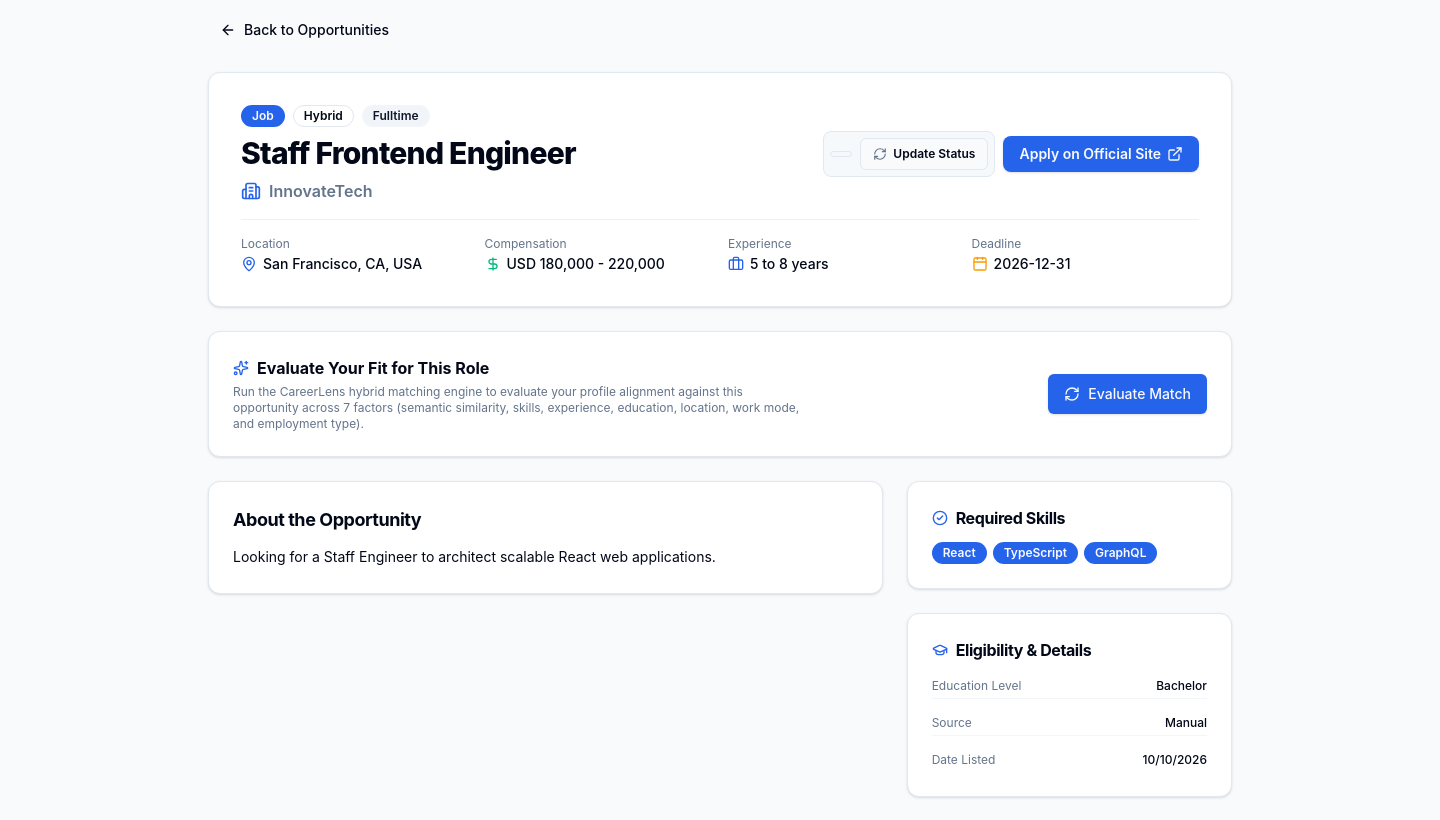
Test: Phase 20 — OpportunityDetailPage Match Integration › shows Evaluate Match button when authenticated and match is not yet computed
Expected: the heading "Staff Frontend Engineer" is shown, [241,135,576,171]
Expected: the heading "Evaluate Your Fit for This Role" is shown, [257,356,489,380]
Note: Trigger evaluation on explicit click
Click the button "Evaluate Match" at (1128, 394), box [1048,374,1207,414]
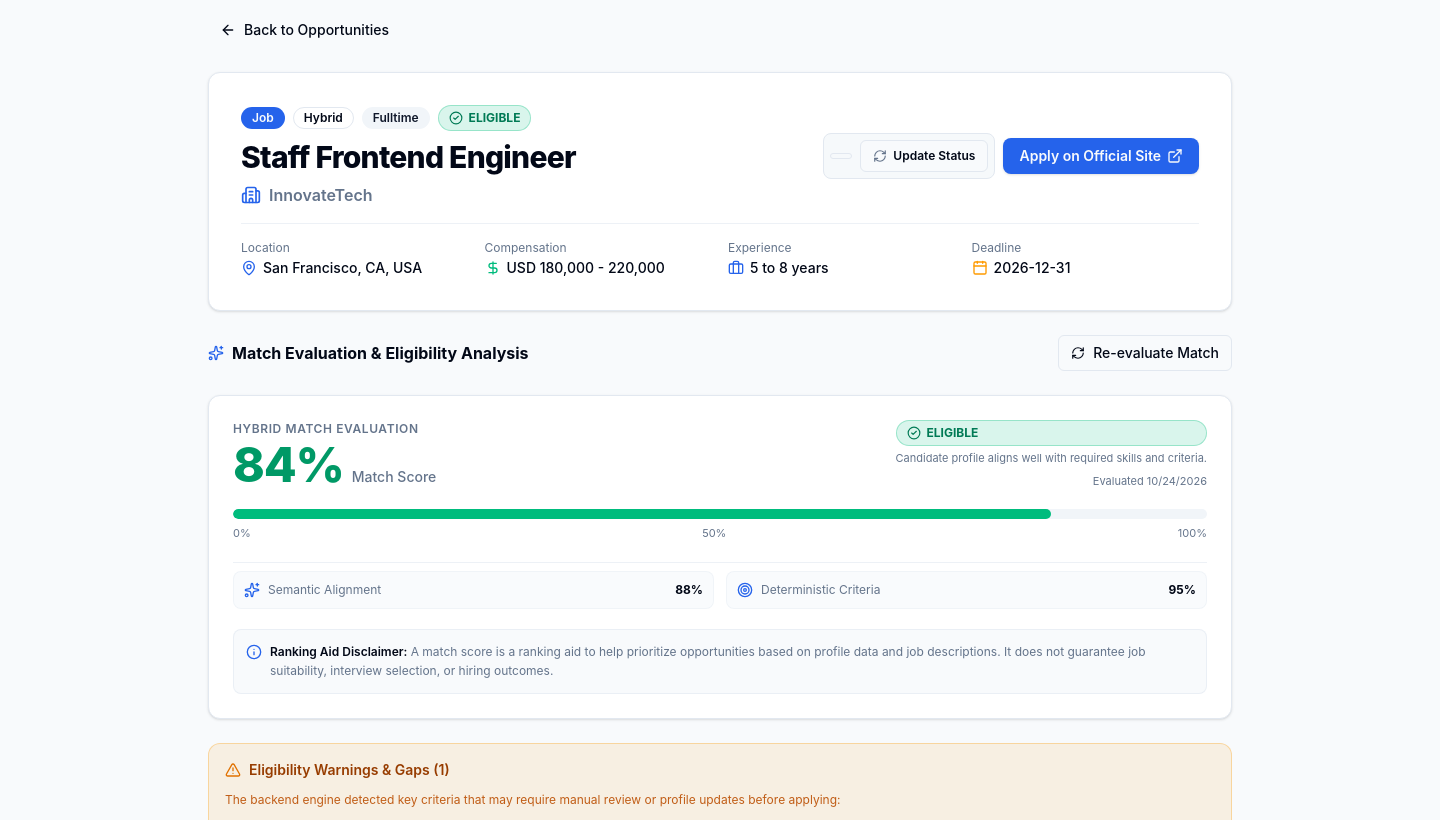
Result: the heading "Match Evaluation & Eligibility Analysis" is shown at [232,341,528,365]
